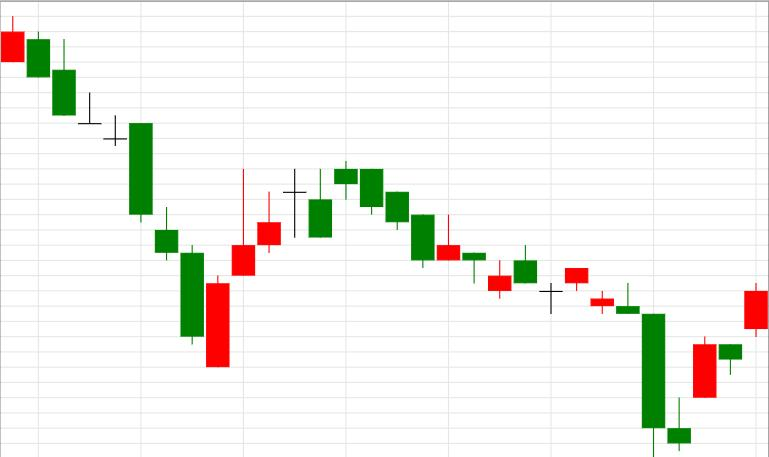morning_star_rise: (566, 267, 716, 457)
three_white_soldiers_rise: (27, 32, 281, 367)
